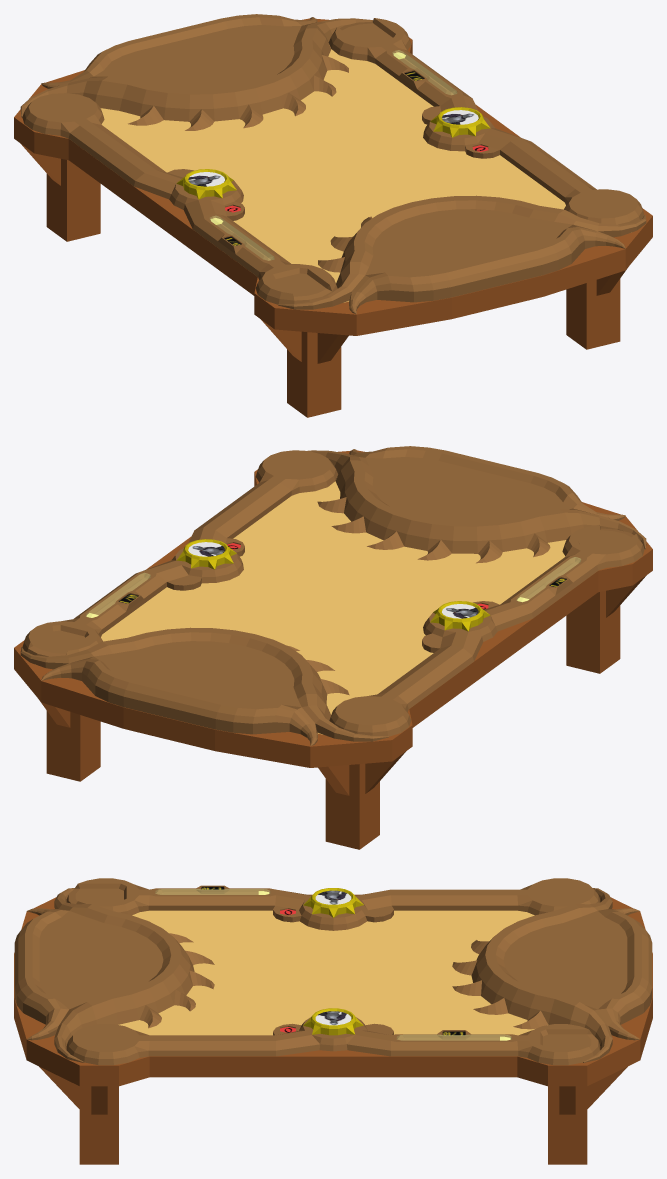
The model's file is table.glb.
3 renders of one model, top to bottom at view 1: azimuth 30°, elevation 25°; view 2: azimuth 150°, elevation 25°; view 3: azimuth 270°, elevation 25°, orthographic. The views are drawn at different scales.
Visible parts, largest first — view 1: top_layer, base, emblem_1, emblem_2; view 2: top_layer, base, emblem_1, emblem_2; view 3: top_layer, base, emblem_2, emblem_1.
Part boxes in pixels (<box>): top_layer: <box>20,14,646,314</box>; base: <box>14,18,652,417</box>; emblem_1: <box>430,107,490,137</box>; emblem_2: <box>176,169,236,199</box>; top_layer: <box>20,446,646,746</box>; base: <box>14,450,652,849</box>; emblem_1: <box>176,539,236,569</box>; emblem_2: <box>430,601,490,631</box>; top_layer: <box>14,878,652,1065</box>; base: <box>14,894,652,1164</box>; emblem_2: <box>303,888,363,917</box>; emblem_1: <box>303,1008,363,1035</box>.
Size of the model in its own units: 37 by 13 by 55.6.
11 materials, 5 textured.
